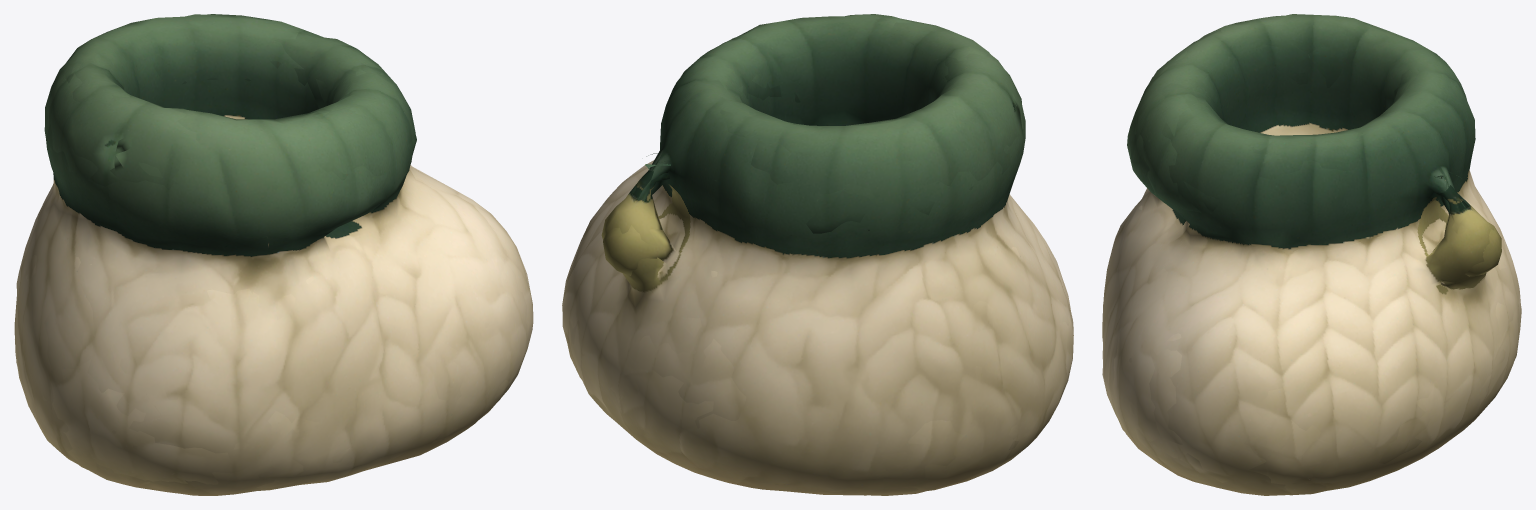
Rendered from bootie.glb.
The picture shows the model from 3 angles, left to right: view 1: azimuth 30°, elevation 25°; view 2: azimuth 150°, elevation 25°; view 3: azimuth 270°, elevation 25°; orthographic projection. The views are drawn at different scales.
Parts seen in each view (by area): view 1: bootie; view 2: bootie; view 3: bootie.
Part boxes in pixels (x1,y1,x2,y2): bootie: (14,14,533,495); bootie: (562,14,1073,495); bootie: (1102,14,1521,495).
Bounding box in the file's own units: 0.8621 × 0.6774 × 0.7474.
Materials: 1 (1 with a texture image).
